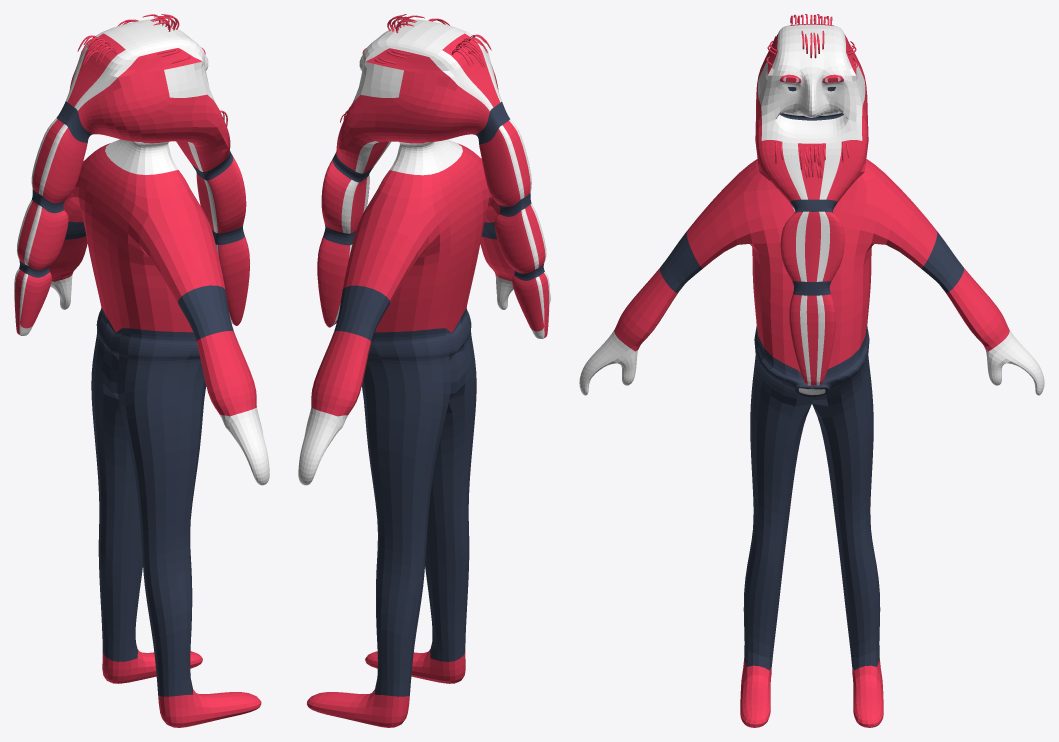
File: GrandFather.fbx
3 views of the same model, side by side, from view 1: azimuth 30°, elevation 25°; view 2: azimuth 150°, elevation 25°; view 3: azimuth 270°, elevation 25° (orthographic). The views are drawn at different scales.
Visible parts, largest first — view 1: Grandfather; view 2: Grandfather; view 3: Grandfather.
Boxes of the visible parts, <box> form: Grandfather: <box>14,14,269,727</box>; Grandfather: <box>298,14,550,727</box>; Grandfather: <box>579,14,1044,727</box>.
Size of the model in its own units: 0.9987 by 2.94 by 1.87.
